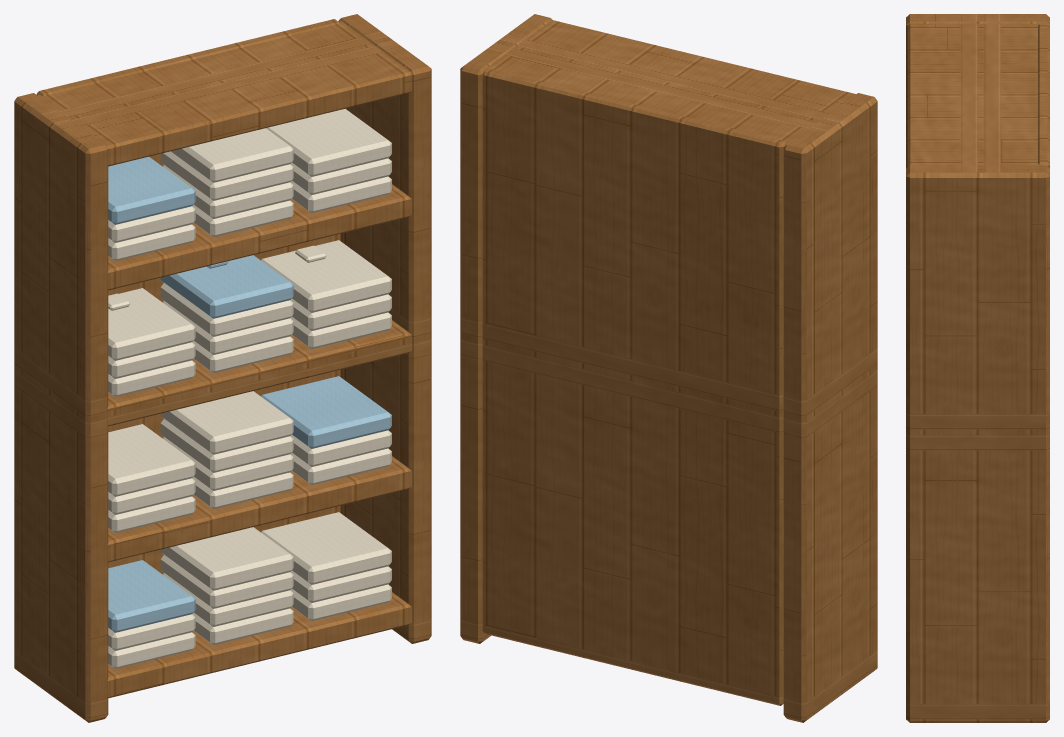
File: Furn_LinenShelf.fbx
3 renders of one model, left to right at view 1: azimuth 30°, elevation 25°; view 2: azimuth 150°, elevation 25°; view 3: azimuth 270°, elevation 25°, orthographic. The views are drawn at different scales.
Parts seen in each view (by area): view 1: Furn_LinenShelf_Mesh; view 2: Furn_LinenShelf_Mesh; view 3: Furn_LinenShelf_Mesh.
Boxes of the visible parts, bbox=[...] form: Furn_LinenShelf_Mesh: bbox=[14, 14, 431, 722]; Furn_LinenShelf_Mesh: bbox=[460, 14, 877, 722]; Furn_LinenShelf_Mesh: bbox=[906, 14, 1049, 722].
Bounding box in the file's own units: 1.2 × 1.9 × 0.45.
Materials: 3 (3 with a texture image).
